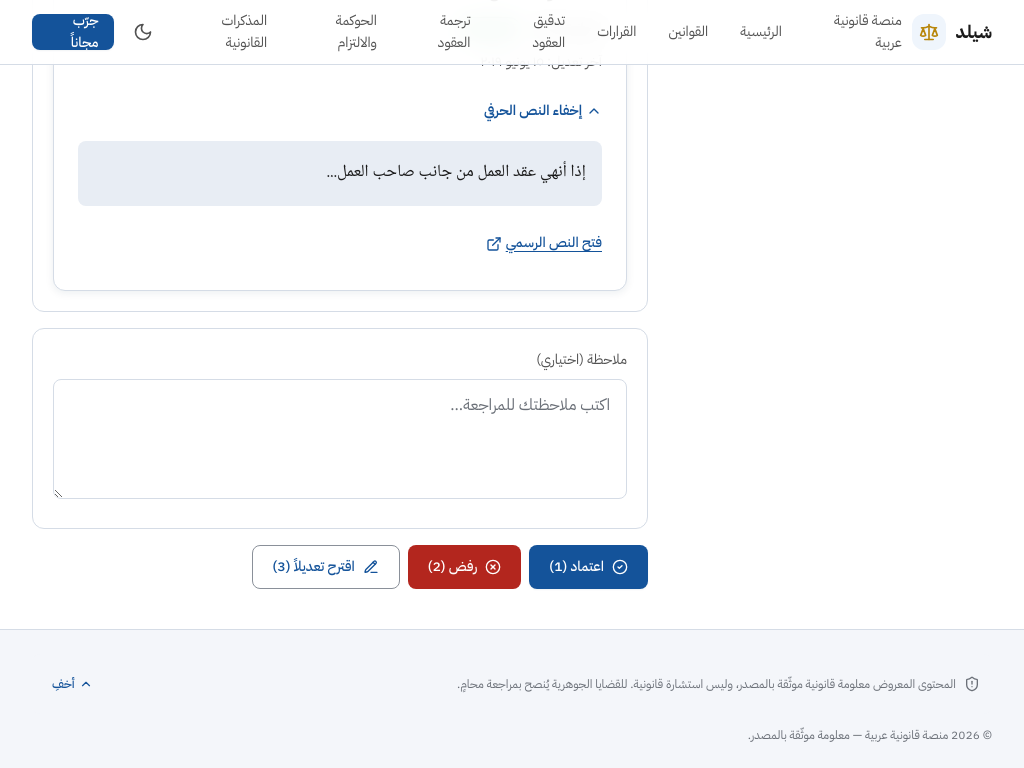
Test: ReviewPage › فشل الحسم لا يزيل العنصر ويعرض خطأً (لا يختفي تلقائياً)
(page scrolled)
Click the button "اعتماد (1)".
click(589, 567)  # box [529,545,648,589]
(page scrolled)
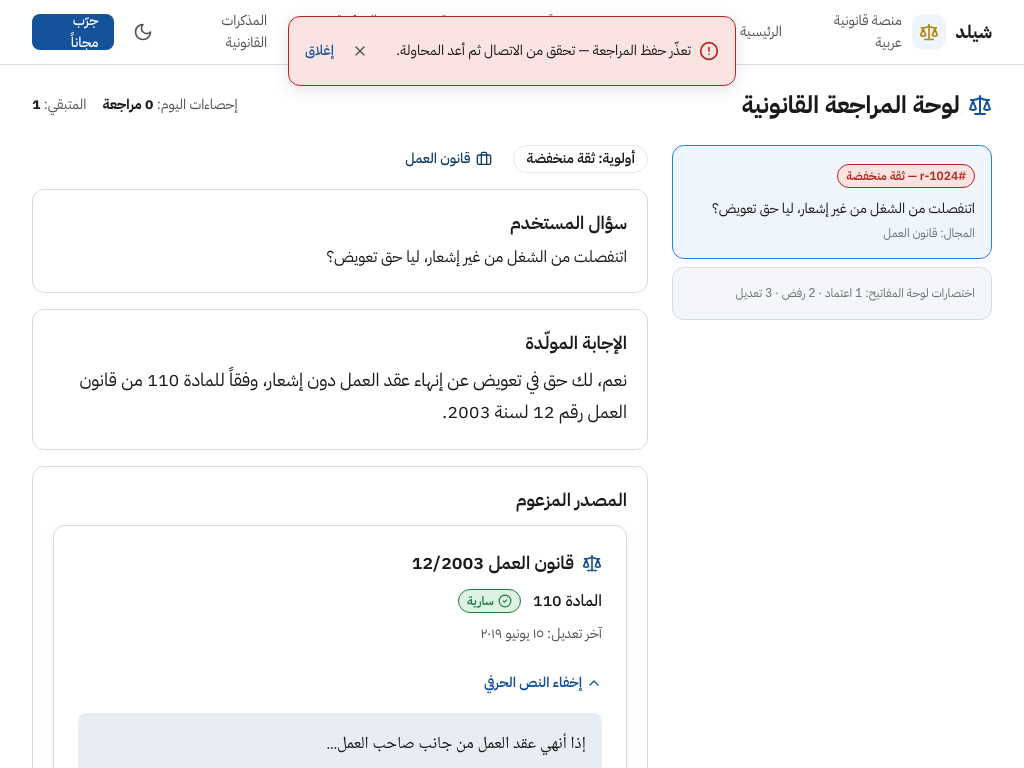
Expected: the text "تعذّر حفظ المراجعة — تحقق من الاتصال ثم أعد المحاولة." is shown, [396,40,691,62]
